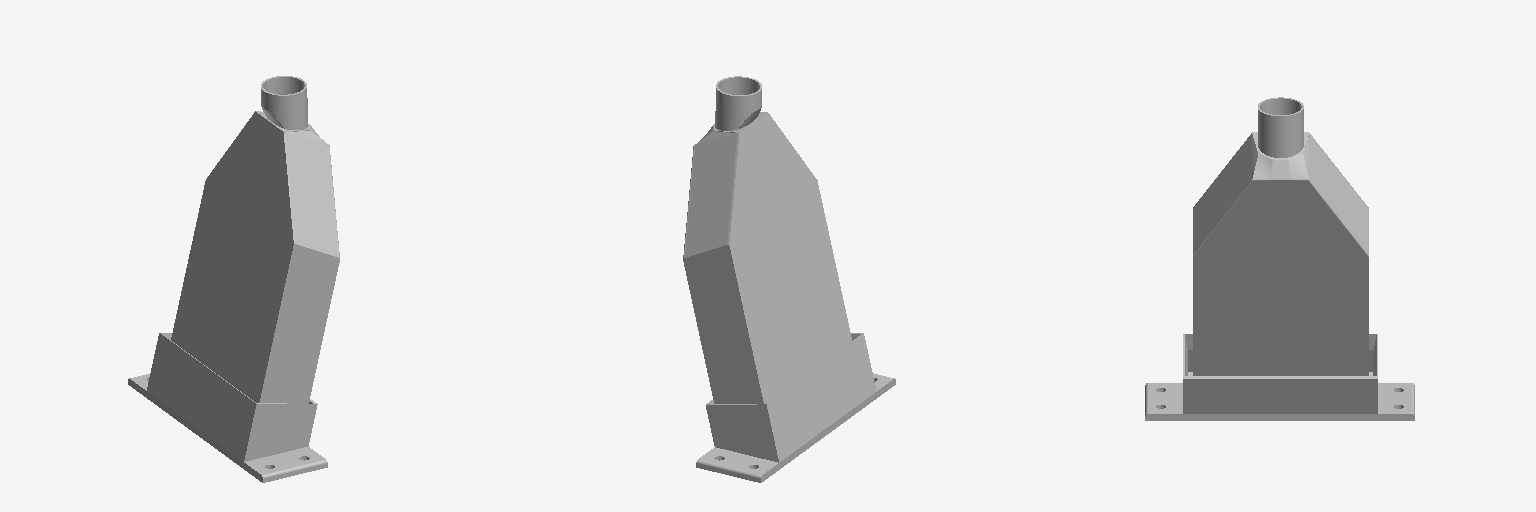
File: Assembly_Receiver.obj
3 views of the same model, side by side, from view 1: azimuth 30°, elevation 25°; view 2: azimuth 150°, elevation 25°; view 3: azimuth 270°, elevation 25° (orthographic).
Visible parts, largest first — view 1: Solid1, Solid2:1, Solid3, Solid1:1; view 2: Solid1, Solid2:1, Solid2, Solid1:1; view 3: Solid1, Solid2:1, Solid1:1, Solid2, Solid3.
Boxes of the visible parts, <box> form: Solid1: <box>171,76,339,403</box>; Solid2:1: <box>147,333,317,461</box>; Solid3: <box>286,133,337,256</box>; Solid1:1: <box>128,374,327,482</box>; Solid1: <box>683,76,851,403</box>; Solid2:1: <box>706,333,876,462</box>; Solid2: <box>685,133,736,257</box>; Solid1:1: <box>696,373,895,482</box>; Solid1: <box>1193,97,1368,375</box>; Solid2:1: <box>1183,334,1377,413</box>; Solid1:1: <box>1145,383,1414,420</box>; Solid2: <box>1309,134,1368,252</box>; Solid3: <box>1193,135,1251,252</box>.
Size of the model in its own units: 3.46 by 8.96 by 6.69.